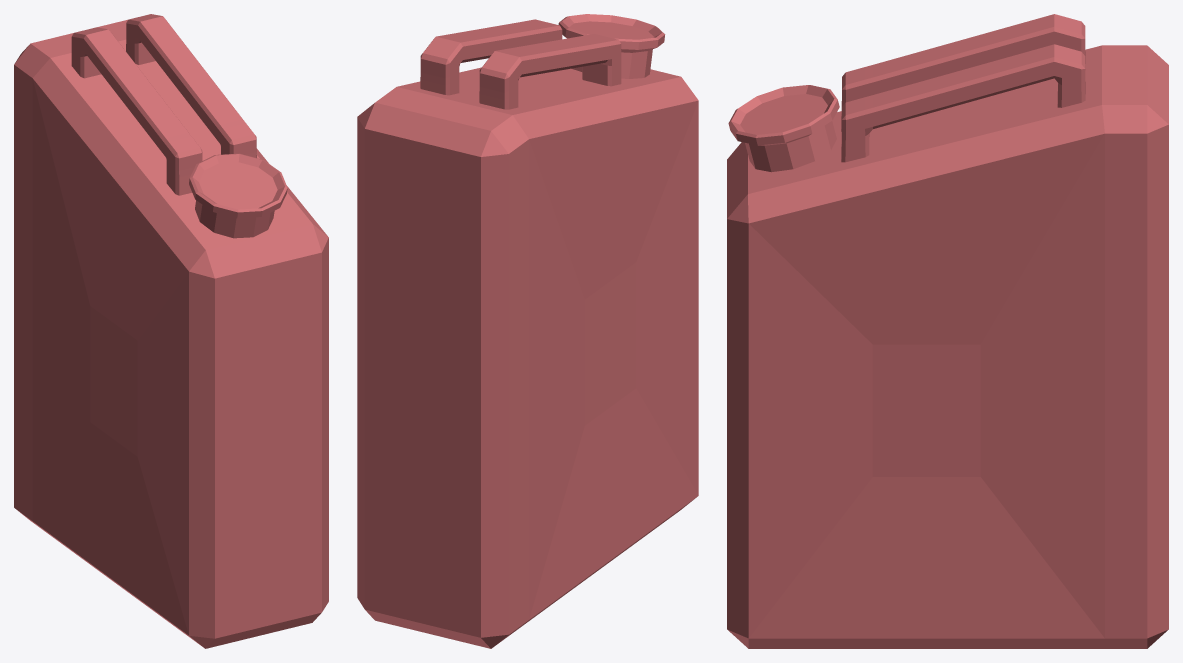
The model's file is Fuel Can.fbx.
The picture shows the model from 3 angles, left to right: view 1: azimuth 30°, elevation 25°; view 2: azimuth 150°, elevation 25°; view 3: azimuth 270°, elevation 25°; orthographic projection. The views are drawn at different scales.
Visible parts, largest first — view 1: Fuel Can; view 2: Fuel Can; view 3: Fuel Can.
Boxes of the visible parts, x1,y1,x2,y2 form: Fuel Can: (14, 14, 328, 648); Fuel Can: (357, 14, 698, 648); Fuel Can: (727, 14, 1168, 648).
Size of the model in its own units: 26.14 by 91.48 by 62.78.
